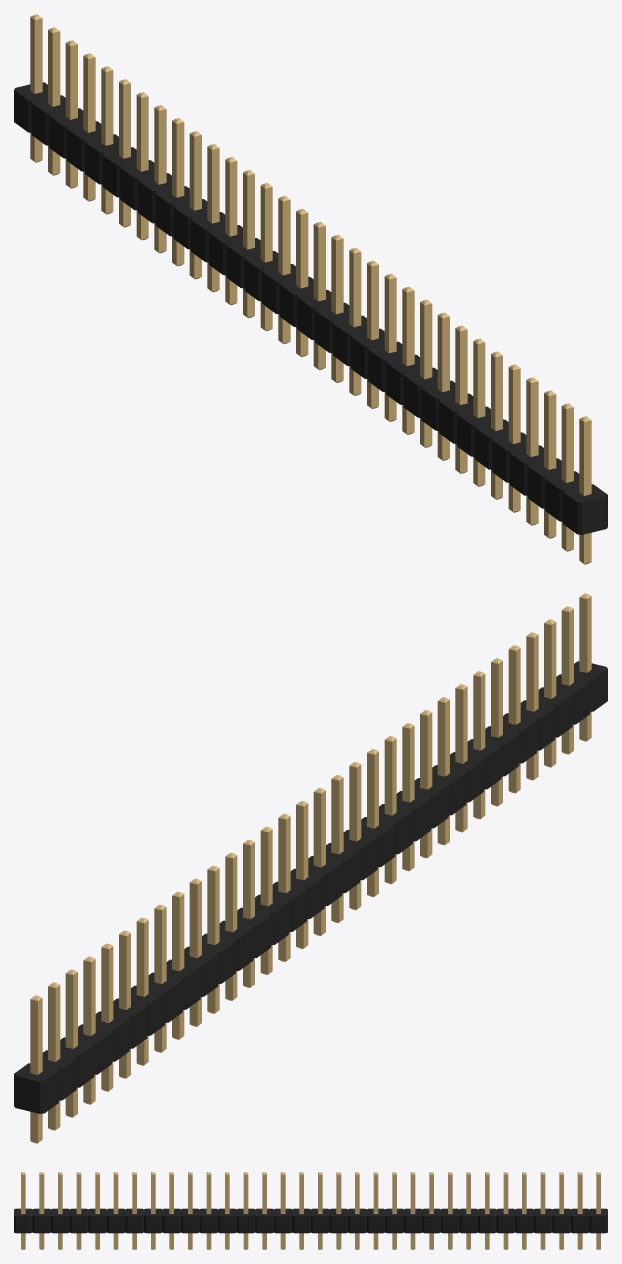
The model's file is kc-pinheader_1x32_p2.54mm_vertical.glb.
3 views of the same model, one above another, from view 1: azimuth 30°, elevation 25°; view 2: azimuth 150°, elevation 25°; view 3: azimuth 270°, elevation 25° (orthographic). The views are drawn at different scales.
Visible parts, largest first — view 1: 0.75_0.5_0.25_0.9, 0_0_0_0; view 2: 0.75_0.5_0.25_0.9, 0_0_0_0; view 3: 0_0_0_0, 0.75_0.5_0.25_0.9.
Part boxes in pixels (<box>): 0.75_0.5_0.25_0.9: <box>30,14,591,564</box>; 0_0_0_0: <box>14,82,607,534</box>; 0.75_0.5_0.25_0.9: <box>30,593,591,1143</box>; 0_0_0_0: <box>14,661,607,1113</box>; 0_0_0_0: <box>14,1208,607,1233</box>; 0.75_0.5_0.25_0.9: <box>21,1172,600,1249</box>.
Bounding box in the file's own units: 0.254 × 1.15 × 8.13.
